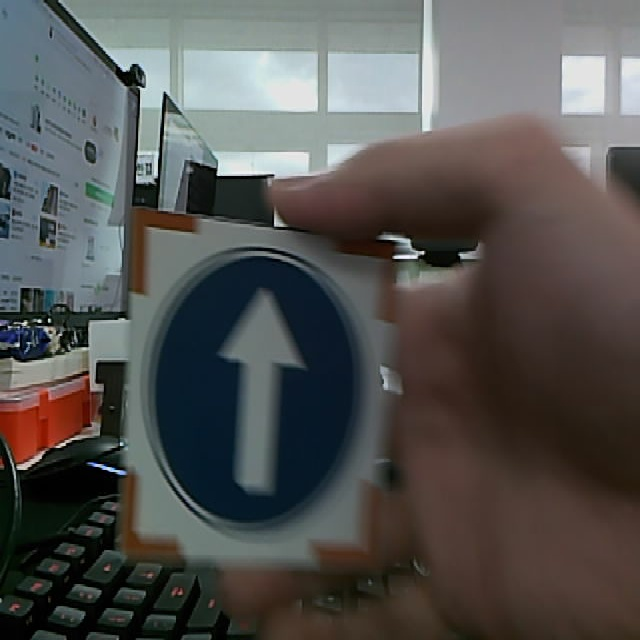straight: (119, 203, 397, 578)
